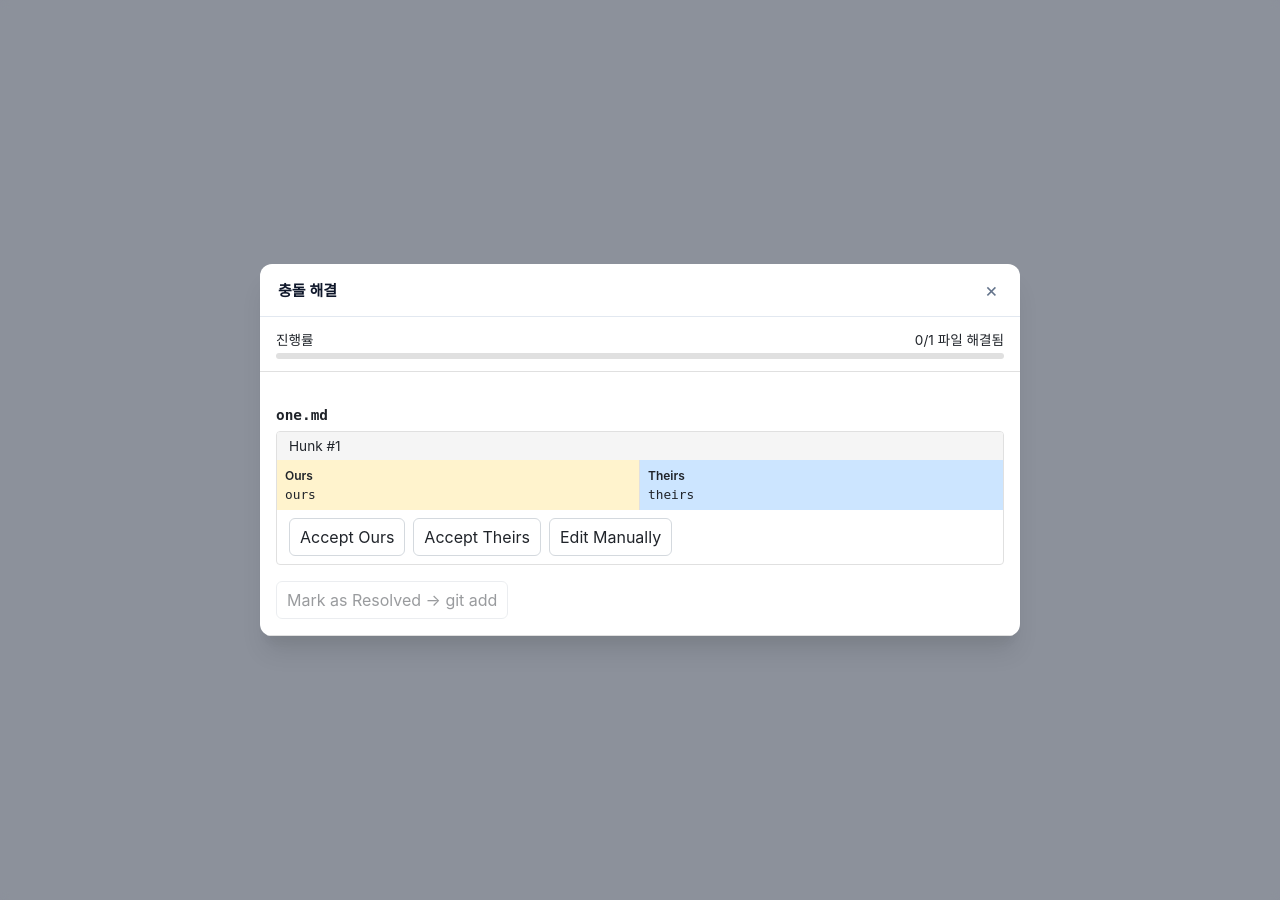
Scenario: ConflictResolver progress bar semantics › does not advance progress when all hunks are resolved but the file is not yet marked
expect the text "0/1 파일 해결됨" is shown: met, box x1=915 y1=328 x2=1004 y2=348
Click the button "Accept Ours".
click(347, 538)  # box x1=289 y1=518 x2=405 y2=556
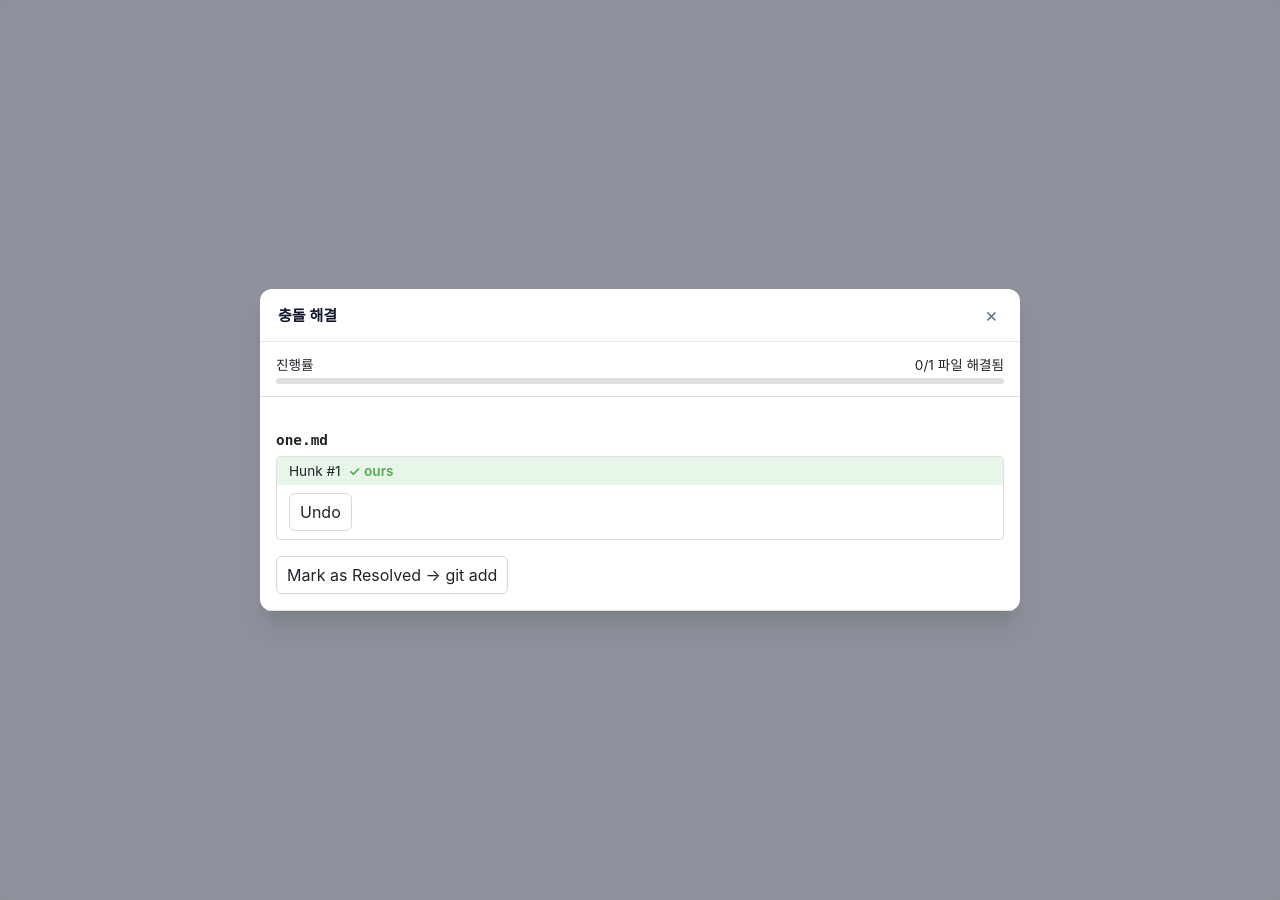
expect the text "0/1 파일 해결됨" is shown: met, box x1=915 y1=354 x2=1004 y2=374
expect the button "Mark as Resolved → git add" is enabled: met, box x1=276 y1=556 x2=508 y2=594
